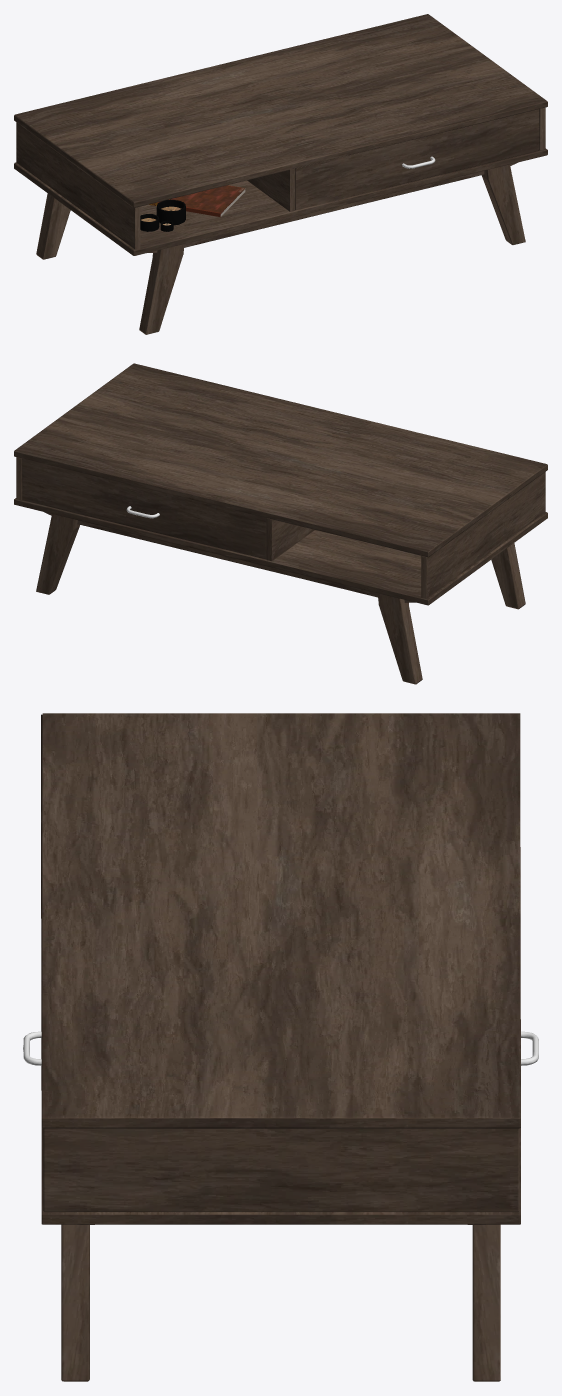
Rendered from furniture_1.glb.
The picture shows the model from 3 angles, top to bottom: view 1: azimuth 30°, elevation 25°; view 2: azimuth 150°, elevation 25°; view 3: azimuth 270°, elevation 25°; orthographic projection. The views are drawn at different scales.
Visible parts, largest first — view 1: GF_Table Maisons, GF_Drawer Maisons, GF_Gardens Book, GF_Candle; view 2: GF_Table Maisons, GF_Drawer Maisons; view 3: GF_Table Maisons.
Boxes of the visible parts, <box> form: GF_Table Maisons: <box>14,14,547,334</box>; GF_Drawer Maisons: <box>295,109,539,209</box>; GF_Gardens Book: <box>149,185,245,216</box>; GF_Candle: <box>156,199,185,225</box>; GF_Table Maisons: <box>14,363,547,684</box>; GF_Drawer Maisons: <box>22,458,266,559</box>; GF_Table Maisons: <box>41,713,520,1381</box>.
Size of the model in its own units: 1.2 by 0.3887 by 0.6455.
7 materials, 3 textured.
